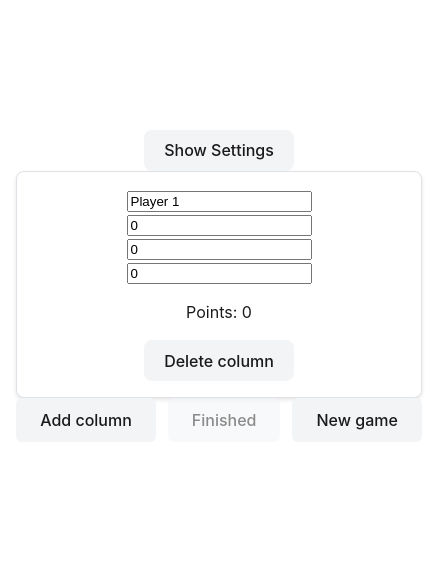
Test case: PointsCalculator › adds a new column when "Add column" is clicked
The image size is (439, 573).
Click the button "Add column" at (86, 420), box [16,398,156,442]
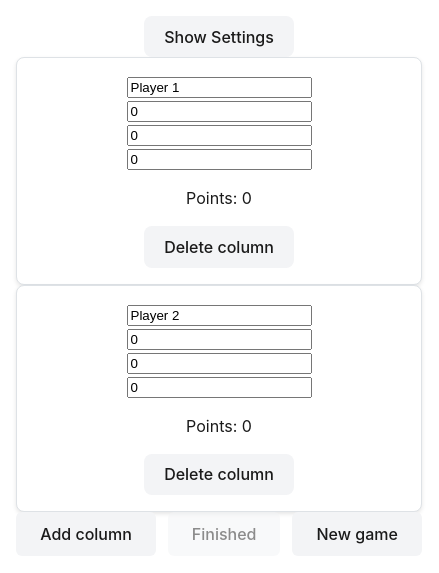
Now the field showing "Player 2" is shown, box [126,305,312,326]
